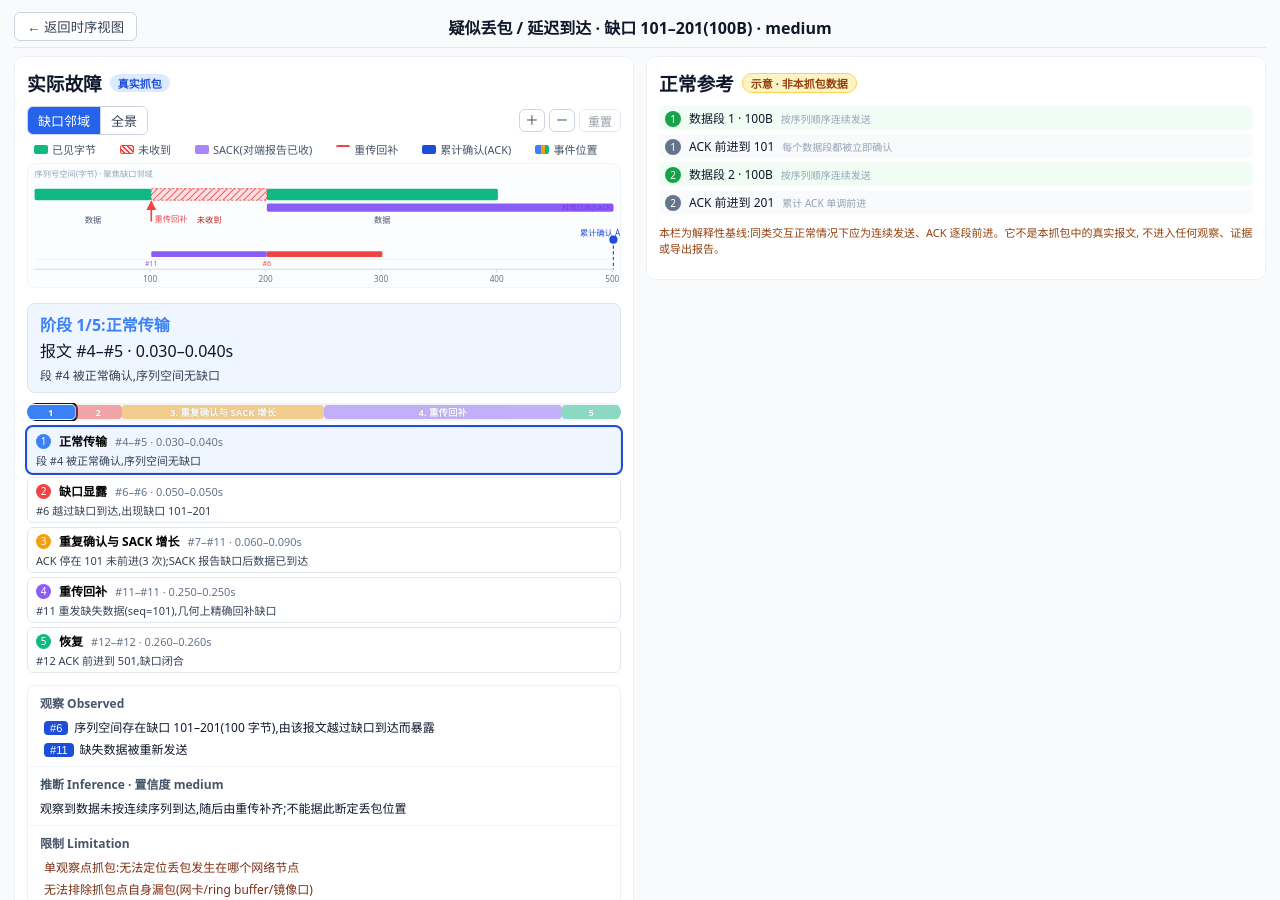
Test case: FaultCompare 完整序列空间视图(M5:缩放/筛选) › 视图范围切换:缺口邻域 ↔ 全景,轴说明与刻度随模式切换;切范围即复位缩放
The image size is (1280, 900).
Expected: the picture with test id "fc-seqspace" shows "聚焦缺口邻域", [104,168,153,179]
Expected: the picture with test id "fc-seqspace" shows "500", [605,273,619,284]
Click the button "全景".
click(124, 120)  # box [100,107,147,134]
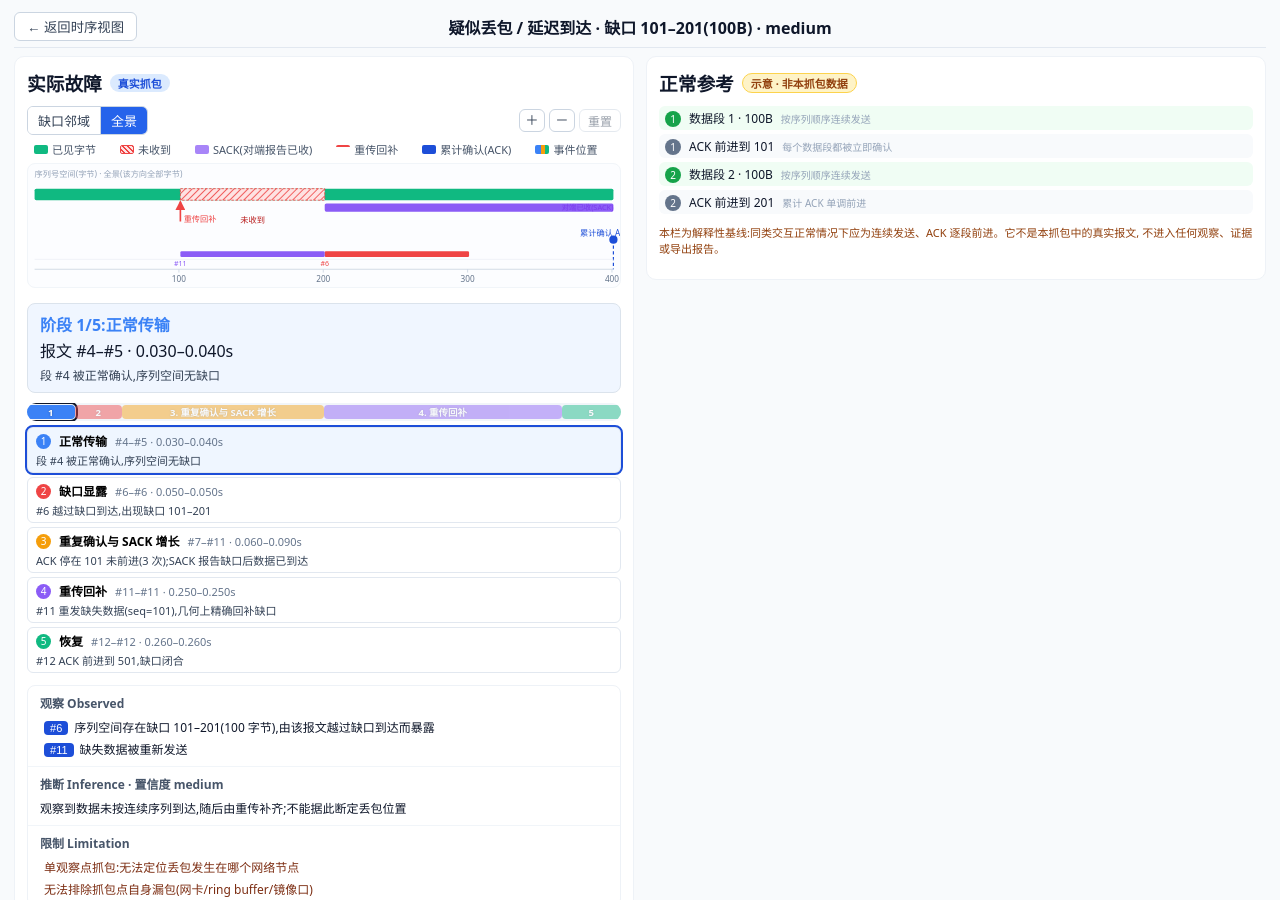
Expected: the picture with test id "fc-seqspace" shows "全景(该方向全部字节)", [104,168,182,179]
Expected: the picture with test id "fc-seqspace" no longer shows "500"
Click the button with test id "fc-zoom-in".
click(532, 120)  # box [519,109,545,132]
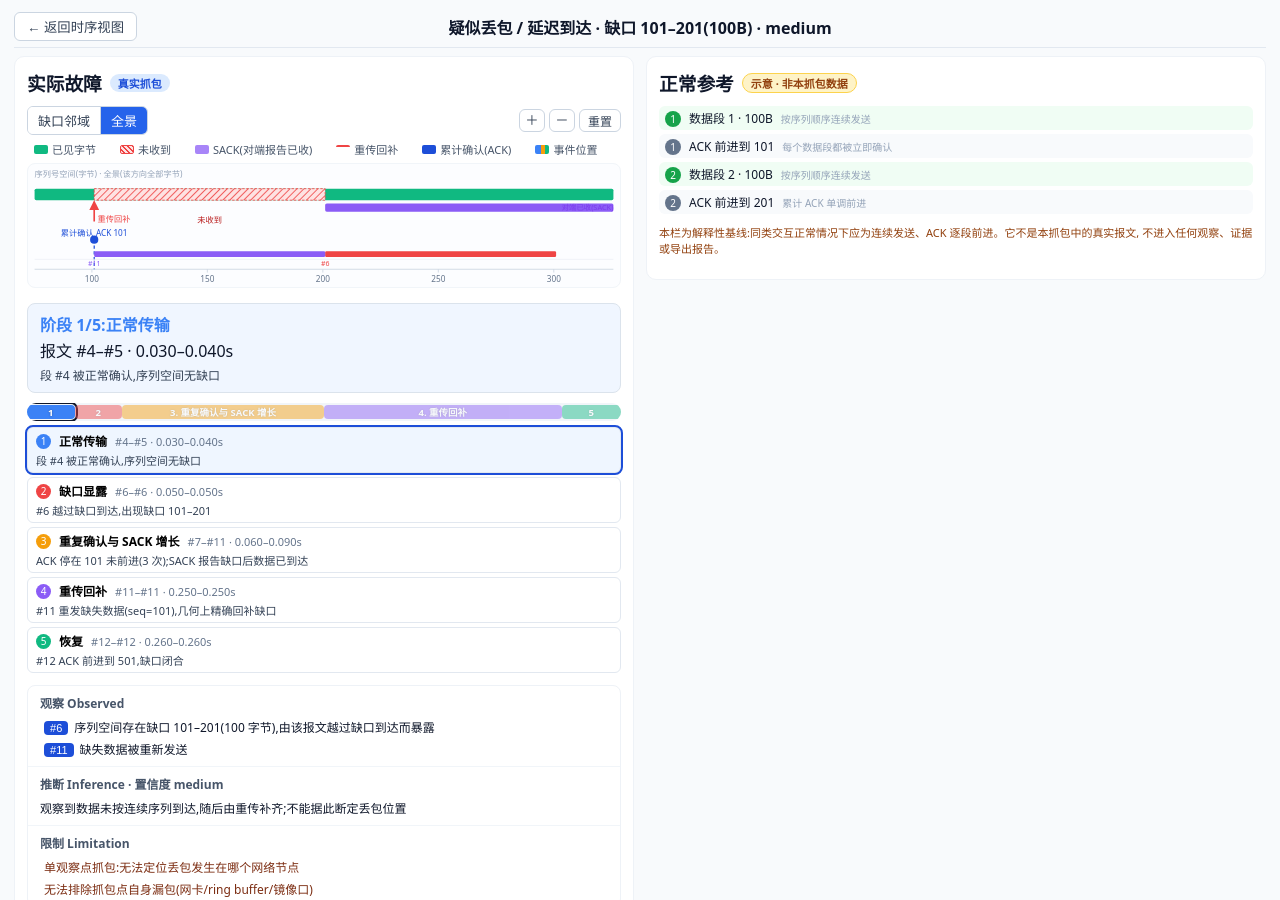
Expected: the picture with test id "fc-seqspace" no longer shows "400"
Expected: the button with test id "fc-zoom-reset" is enabled
Click the button with test id "fc-zoom-reset".
click(600, 120)  # box [579,109,621,132]
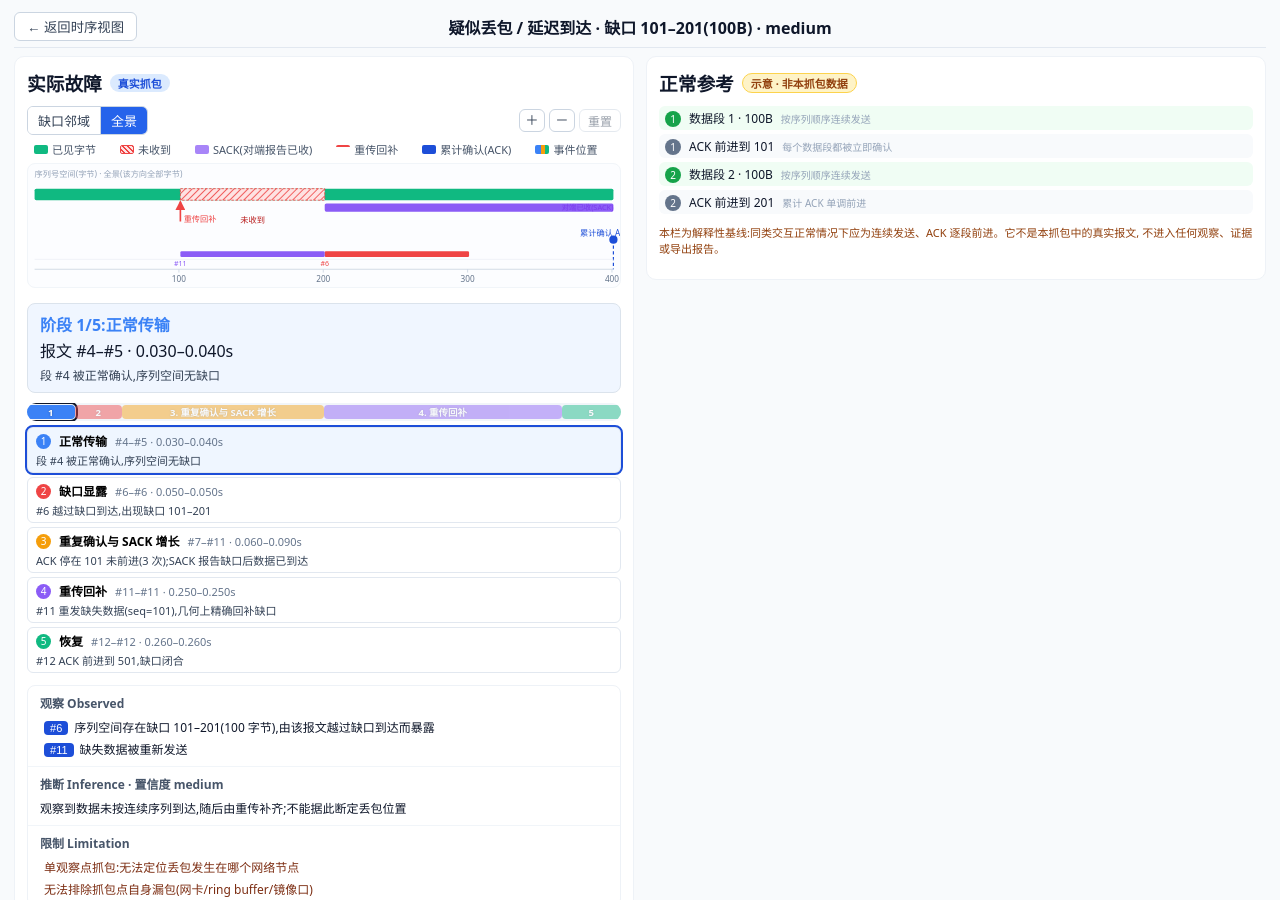
Expected: the picture with test id "fc-seqspace" shows "400", [605,273,619,284]
Expected: the button with test id "fc-zoom-reset" is disabled, [579,109,621,132]
# 切回缺口邻域:缩放已复位,邻域刻度回来
Click the button "缺口邻域".
click(64, 120)  # box [28,107,100,134]
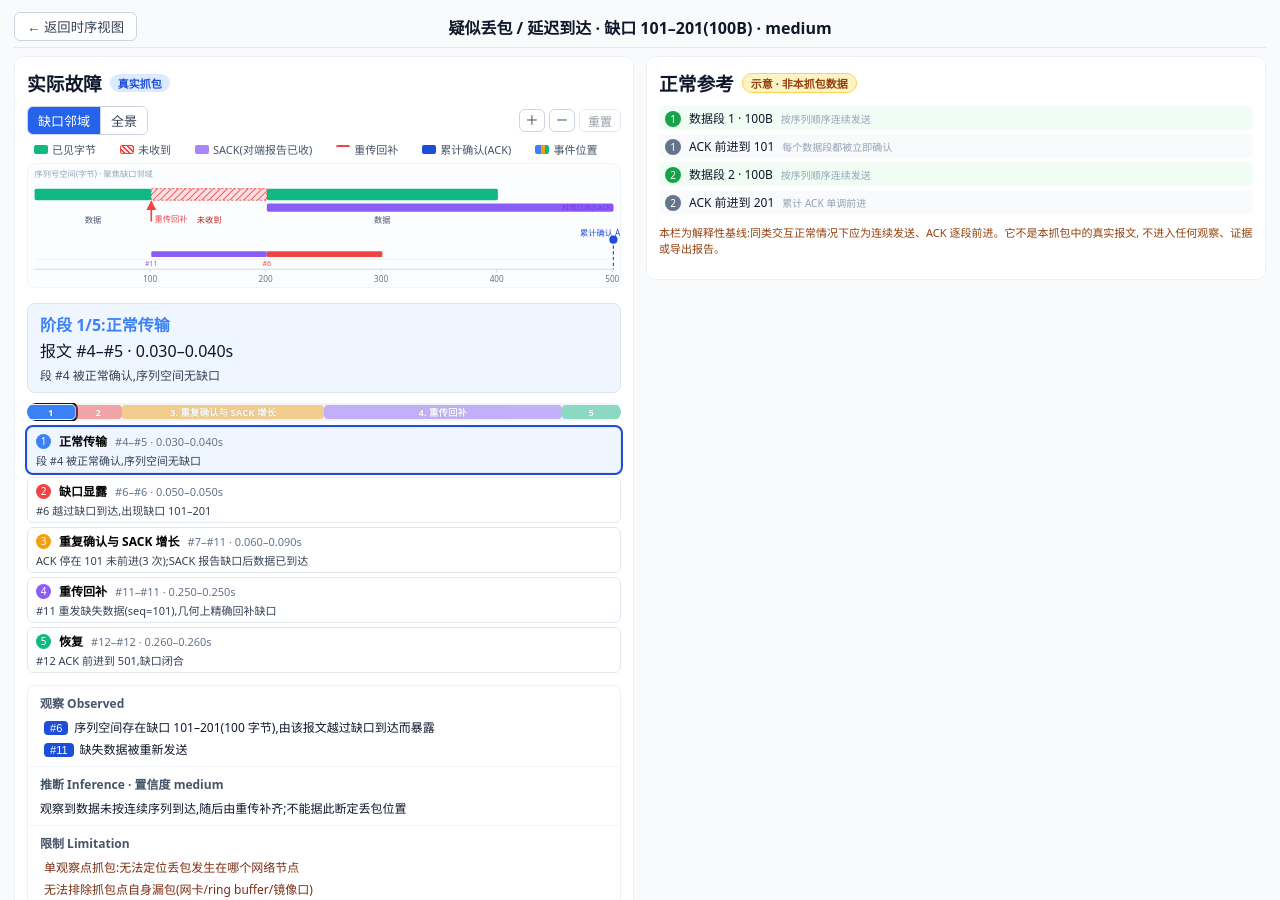
Expected: the picture with test id "fc-seqspace" shows "500", [605,273,619,284]
